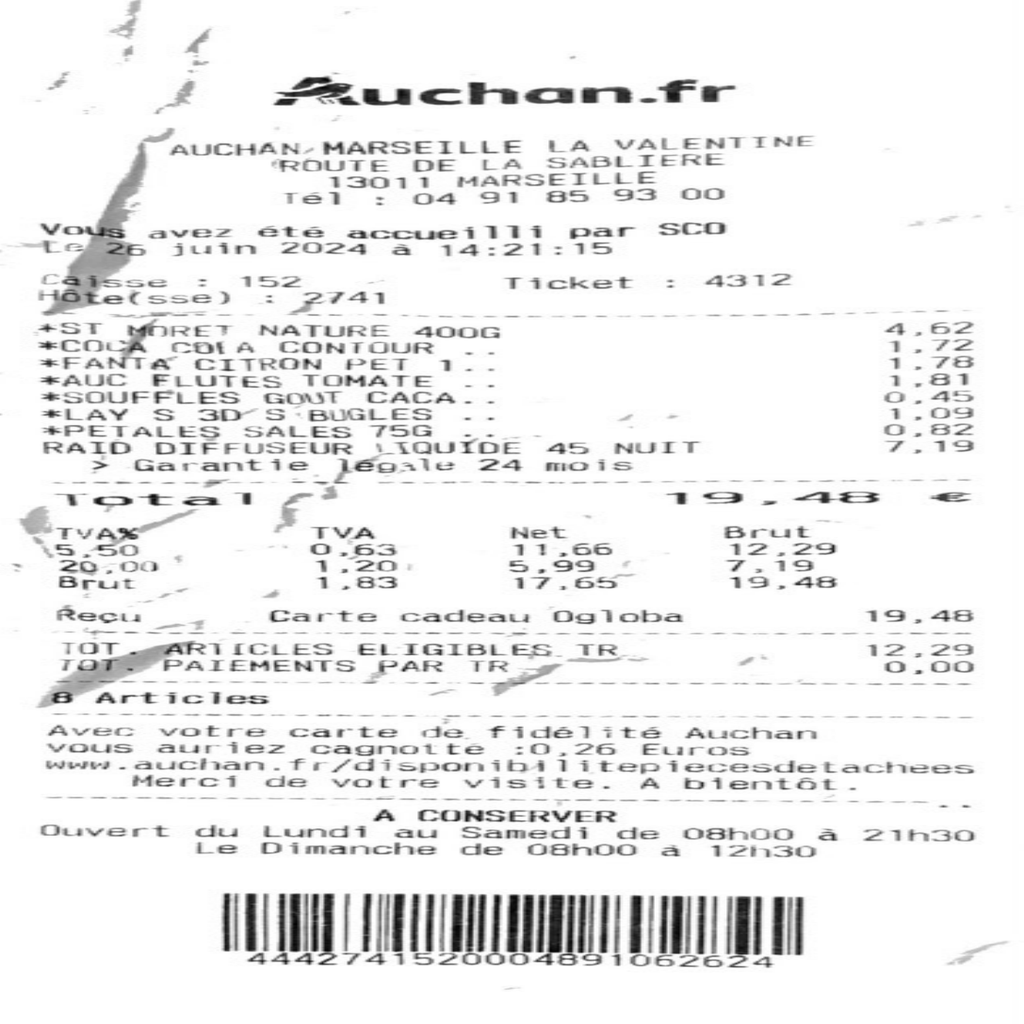recipt: (4, 2, 1022, 1016)
